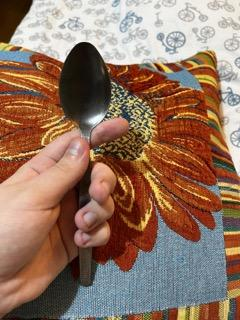spoon: (57, 39, 113, 287)
